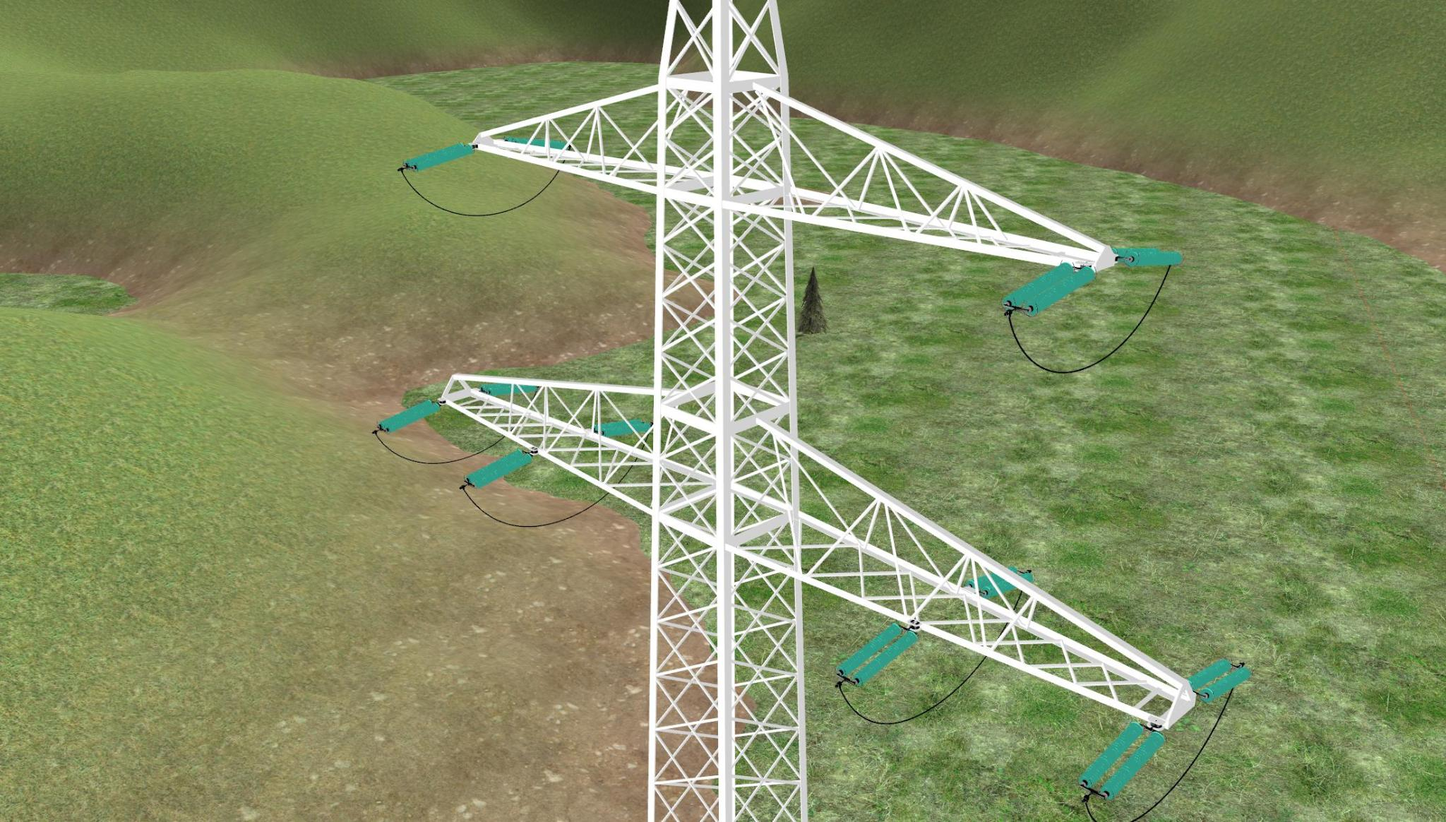tower: (435, 0, 1195, 822)
